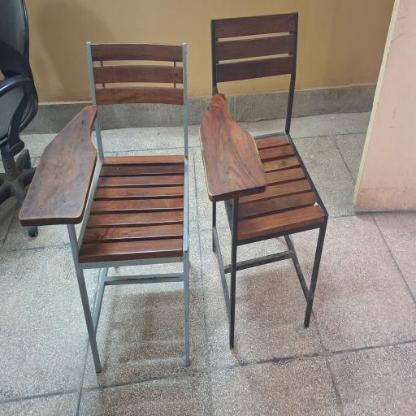chair: (17, 35, 202, 381), (195, 16, 333, 358)
